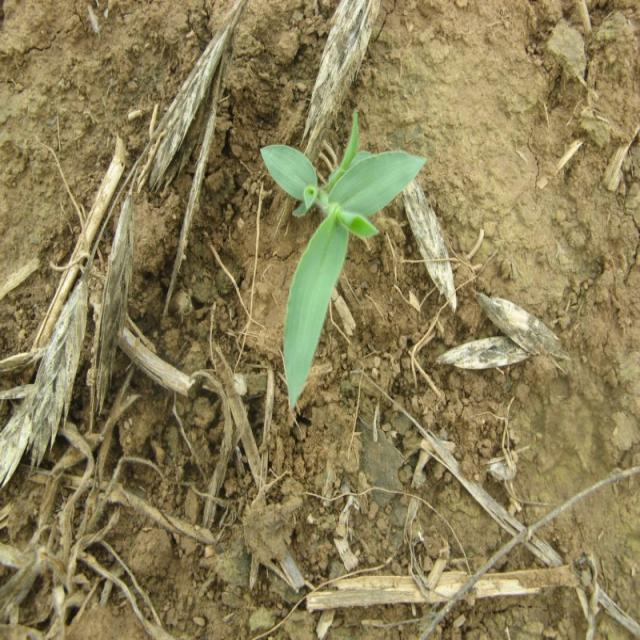bg: (260, 106, 430, 415)
